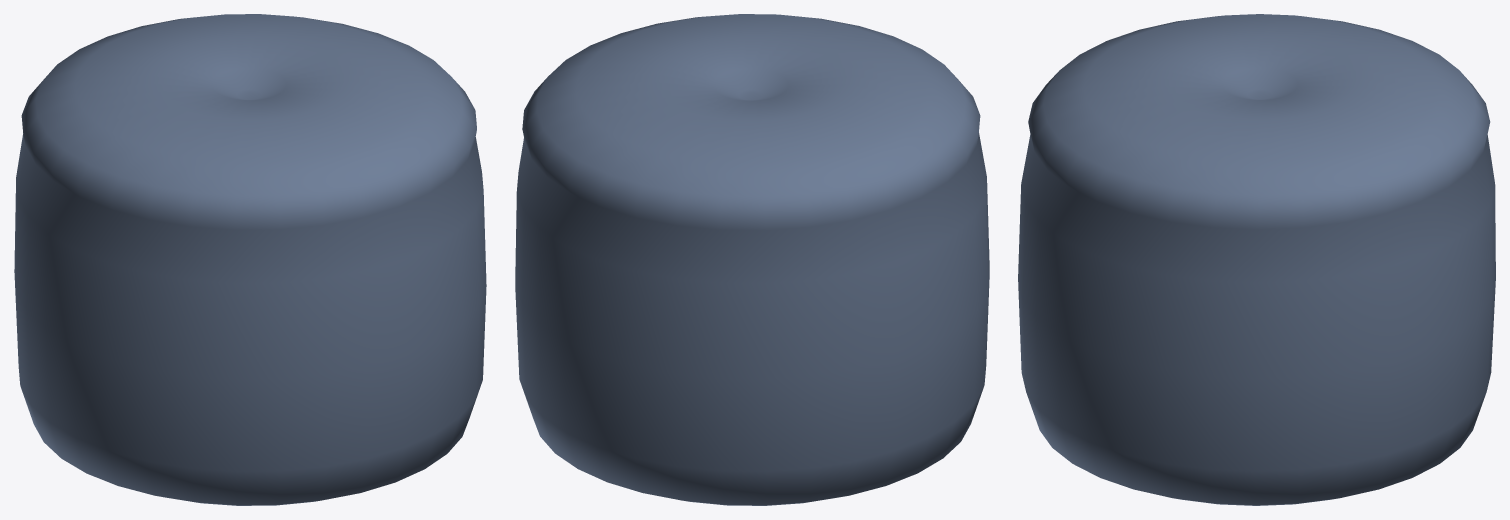
The model's file is Kit_Pouf.fbx.
3 views of the same model, side by side, from view 1: azimuth 30°, elevation 25°; view 2: azimuth 150°, elevation 25°; view 3: azimuth 270°, elevation 25° (orthographic).
Visible parts, largest first — view 1: Kit_Pouf_LOD0; view 2: Kit_Pouf_LOD0; view 3: Kit_Pouf_LOD0.
Boxes of the visible parts, bbox=[...] form: Kit_Pouf_LOD0: bbox=[14, 14, 486, 505]; Kit_Pouf_LOD0: bbox=[515, 14, 989, 505]; Kit_Pouf_LOD0: bbox=[1018, 14, 1495, 505].
Size of what is drawn, in the model's own units: 0.5 by 0.403 by 0.5043.
